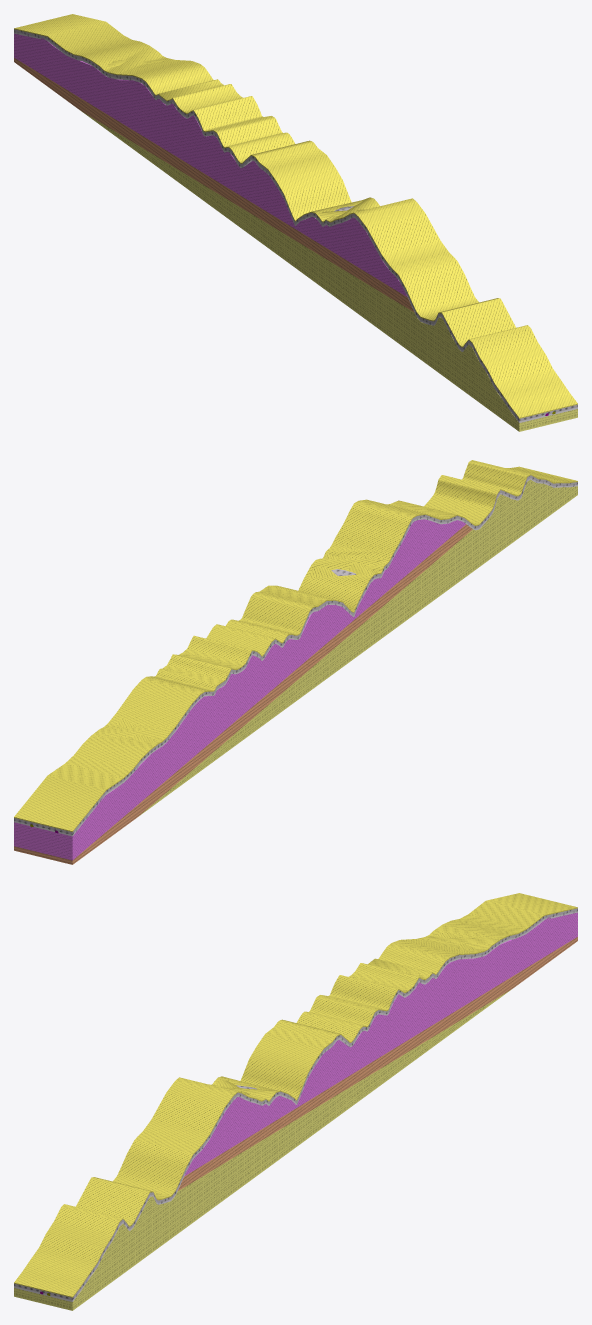
The model's file is MYS1.obj.
The picture shows the model from 3 angles, top to bottom: view 1: azimuth 30°, elevation 25°; view 2: azimuth 150°, elevation 25°; view 3: azimuth 330°, elevation 25°; orthographic projection.
Parts seen in each view (by area): view 1: 5, 2, 0, 1, 4, 3; view 2: 5, 2, 0, 1, 4, 3; view 3: 5, 2, 0, 1, 4, 3.
Boxes of the visible parts, x1=… form: 5: x1=14, y1=14, x2=577, y2=418; 2: x1=14, y1=33, x2=407, y2=297; 0: x1=81, y1=111, x2=577, y2=431; 1: x1=14, y1=58, x2=413, y2=311; 4: x1=14, y1=29, x2=577, y2=421; 3: x1=14, y1=32, x2=577, y2=422; 5: x1=14, y1=460, x2=577, y2=831; 2: x1=14, y1=519, x2=465, y2=860; 0: x1=139, y1=479, x2=577, y2=815; 1: x1=14, y1=524, x2=472, y2=864; 4: x1=14, y1=475, x2=577, y2=834; 3: x1=14, y1=478, x2=577, y2=836; 5: x1=14, y1=893, x2=577, y2=1297; 2: x1=184, y1=912, x2=577, y2=1176; 0: x1=14, y1=990, x2=510, y2=1310; 1: x1=178, y1=937, x2=577, y2=1190; 4: x1=14, y1=908, x2=577, y2=1300; 3: x1=14, y1=911, x2=577, y2=1301.
Size of the model in its own units: 199 by 319 by 2968.
Materials: 8 (6 with a texture image).
